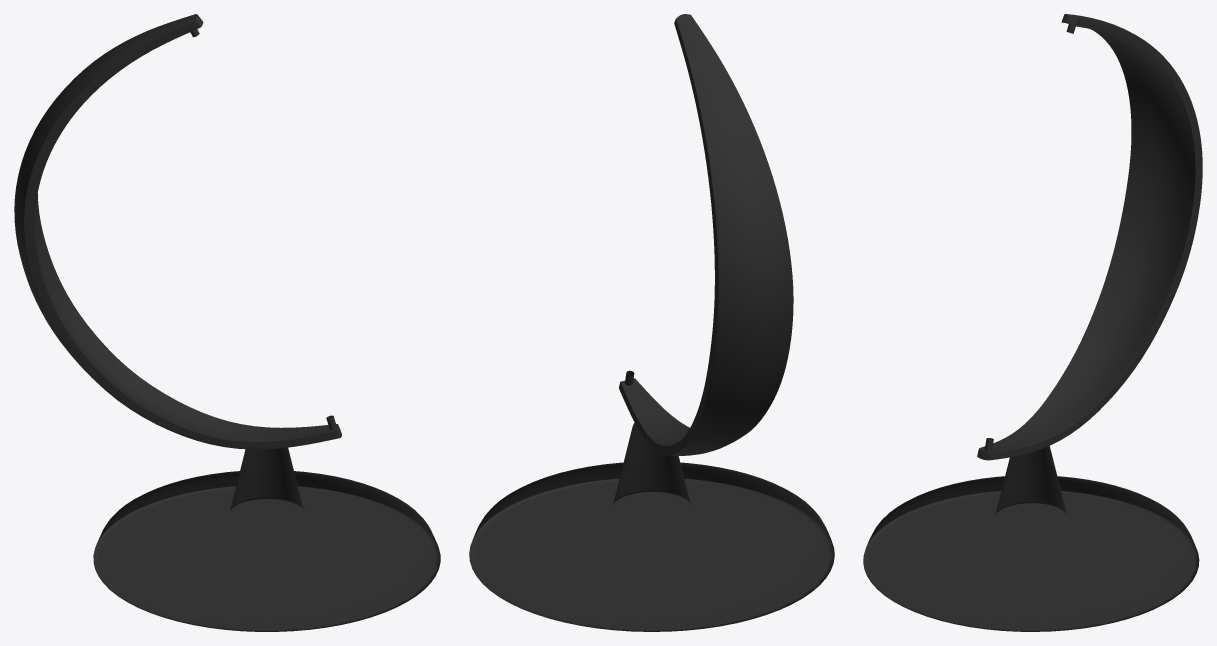
The model's file is Globe.glb.
The picture shows the model from 3 angles, left to right: view 1: azimuth 30°, elevation 25°; view 2: azimuth 150°, elevation 25°; view 3: azimuth 270°, elevation 25°; orthographic projection. The views are drawn at different scales.
Parts seen in each view (by area): view 1: Cylinder; view 2: Cylinder; view 3: Cylinder.
Boxes of the visible parts, box(x1,y1,x2,y2) form: Cylinder: box(14, 14, 440, 631); Cylinder: box(469, 14, 834, 631); Cylinder: box(863, 14, 1202, 631).
Size of the model in its own units: 0.2155 by 0.3282 by 0.1932.
1 material, 1 textured.
